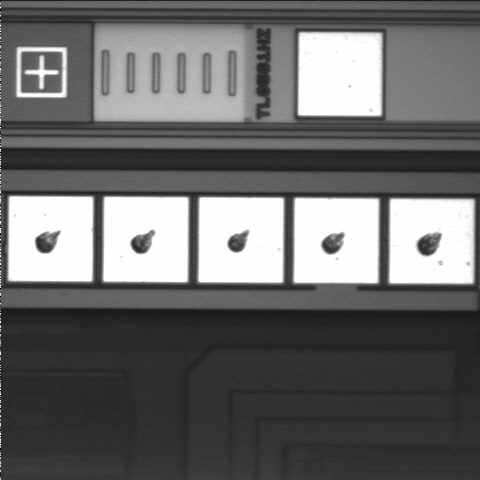pad: (199, 197, 284, 283), (8, 196, 93, 281), (103, 197, 188, 282), (294, 198, 379, 283), (389, 199, 474, 283), (298, 33, 381, 116)
